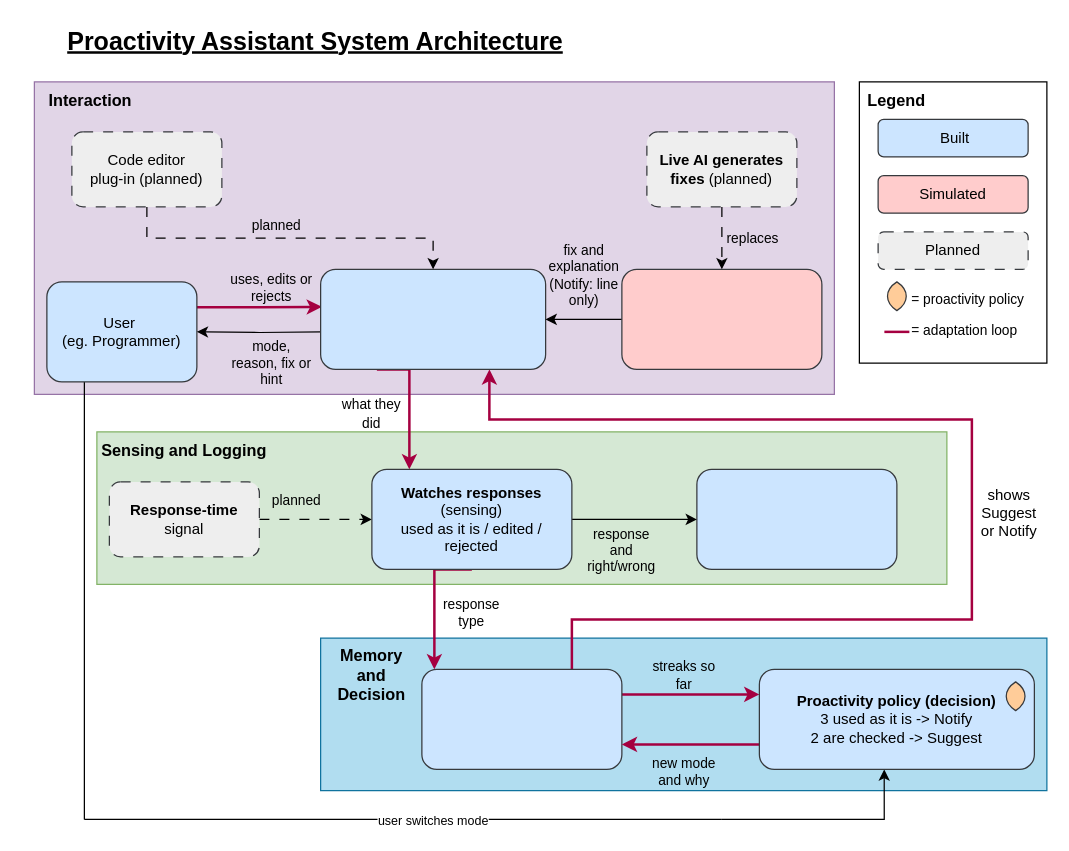
This 1069x851 diagram has some shape labels left out. Each missing label, with the centre of its shape:
Activity log tracks every action and wrong fixes used: the point at 796,518
Assistant's fixes (model) pre-written fixes and 3 are wrong: the point at 721,318
Remembers (memory) current mode, streaks and task: the point at 521,718
User Interface (feedback) Streamlit: code, fix, mode and reason: the point at 432,318
